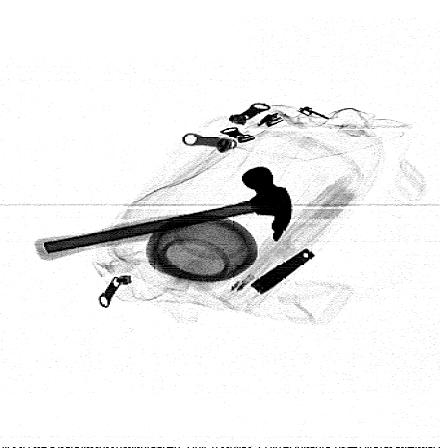Hammer: (34, 166, 293, 260)
